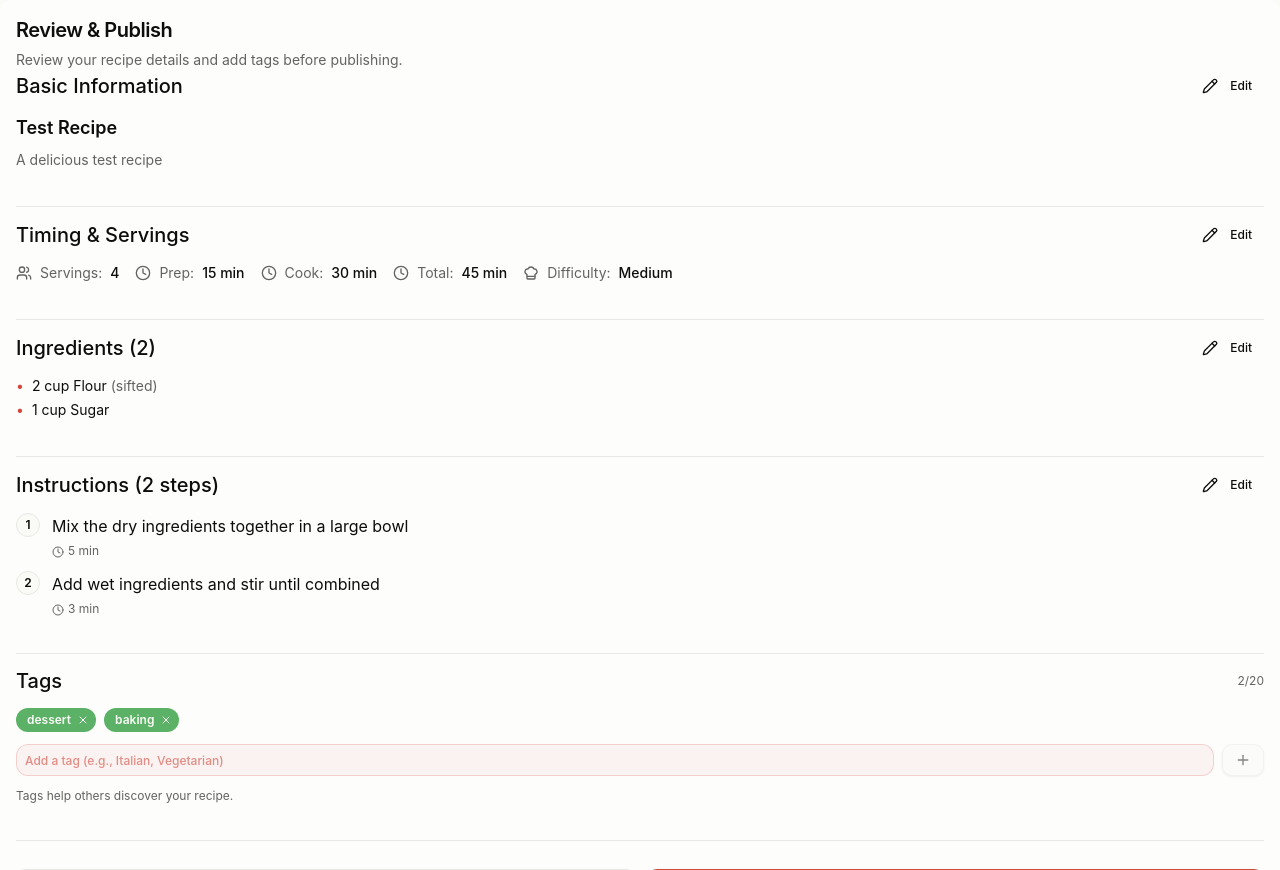
it: ReviewStep › Duplicate tag handling › should show error when adding duplicate tag
'dessert' is already in validFormData tags
Type "dessert" into the field with placeholder "Add a tag (e.g., Italian, Vegetarian)" at (615, 760), box left=16, top=744, right=1214, bottom=776
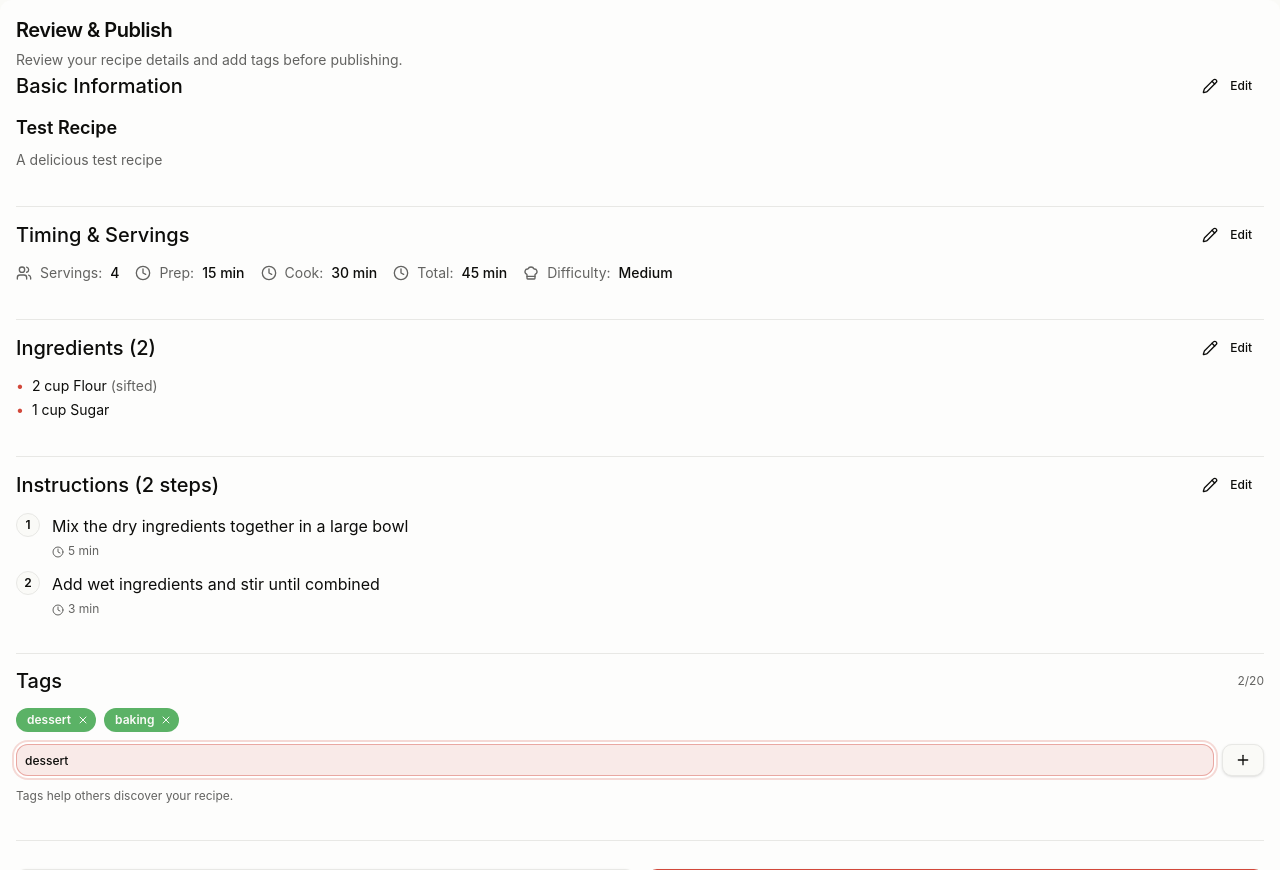
Click the button named "Add tag" at (1243, 760), box left=1222, top=744, right=1264, bottom=776
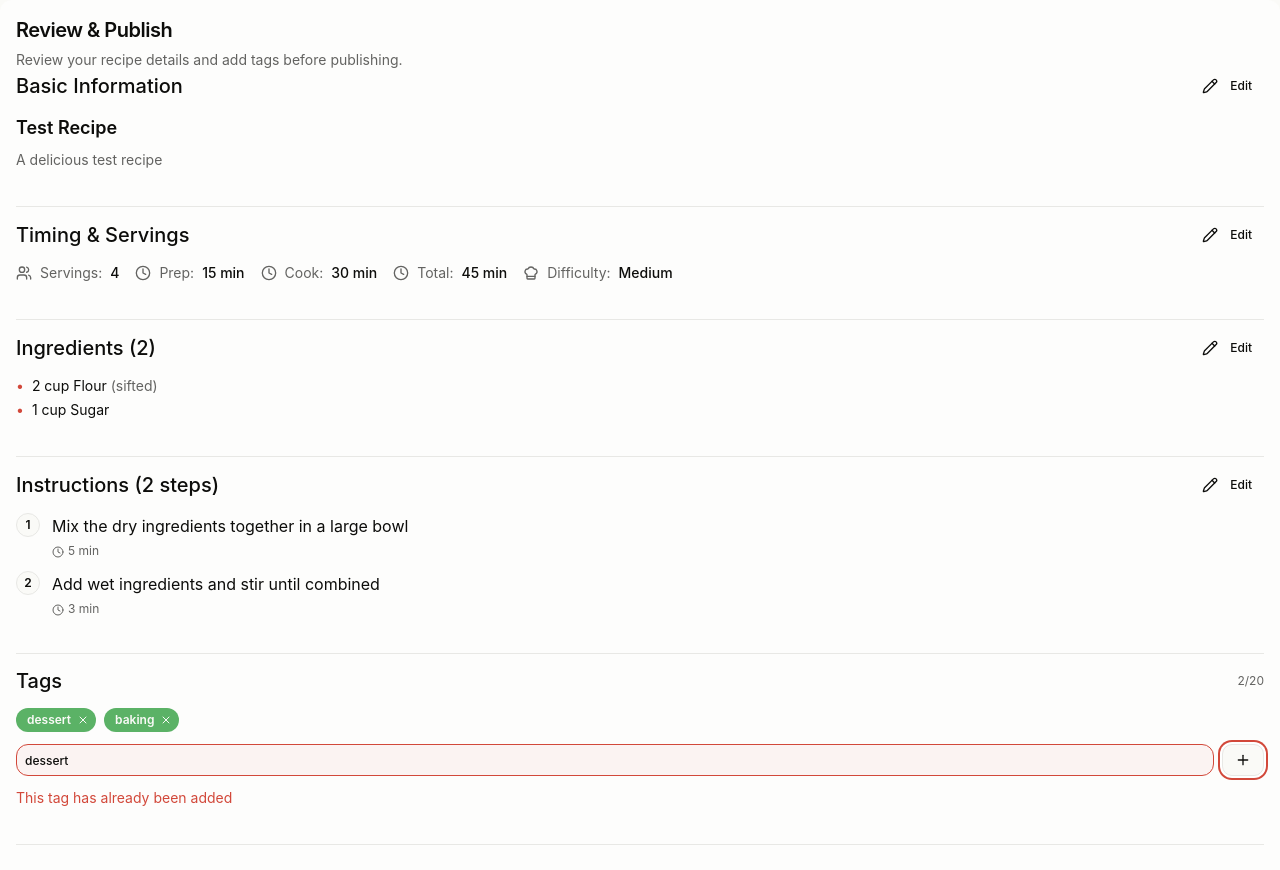
Now the text "This tag has already been added" is shown, box left=16, top=789, right=232, bottom=806
